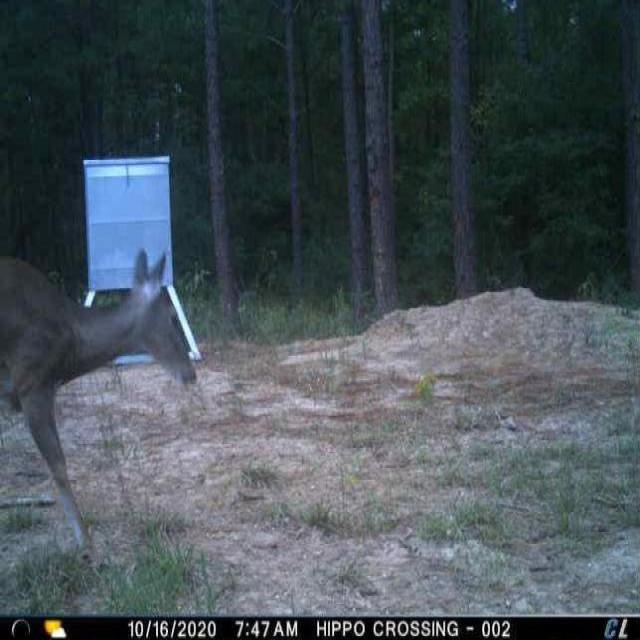deer: (0, 243, 202, 565)
